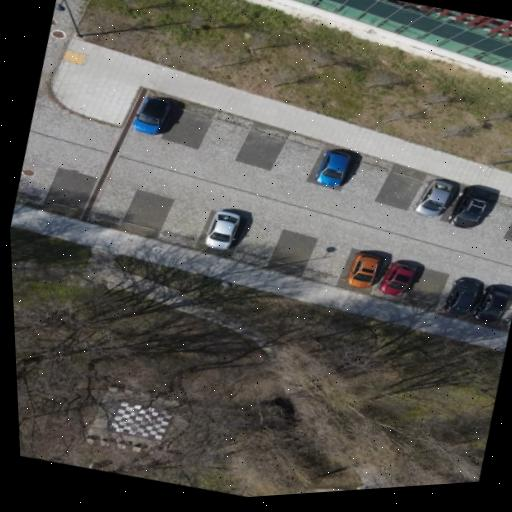car: (449, 186, 494, 227), (414, 178, 454, 216), (132, 96, 170, 133), (444, 278, 481, 314), (474, 285, 511, 321), (205, 210, 238, 248), (315, 150, 350, 185), (346, 252, 380, 287), (379, 262, 414, 295), (508, 201, 512, 248), (505, 312, 511, 327)
